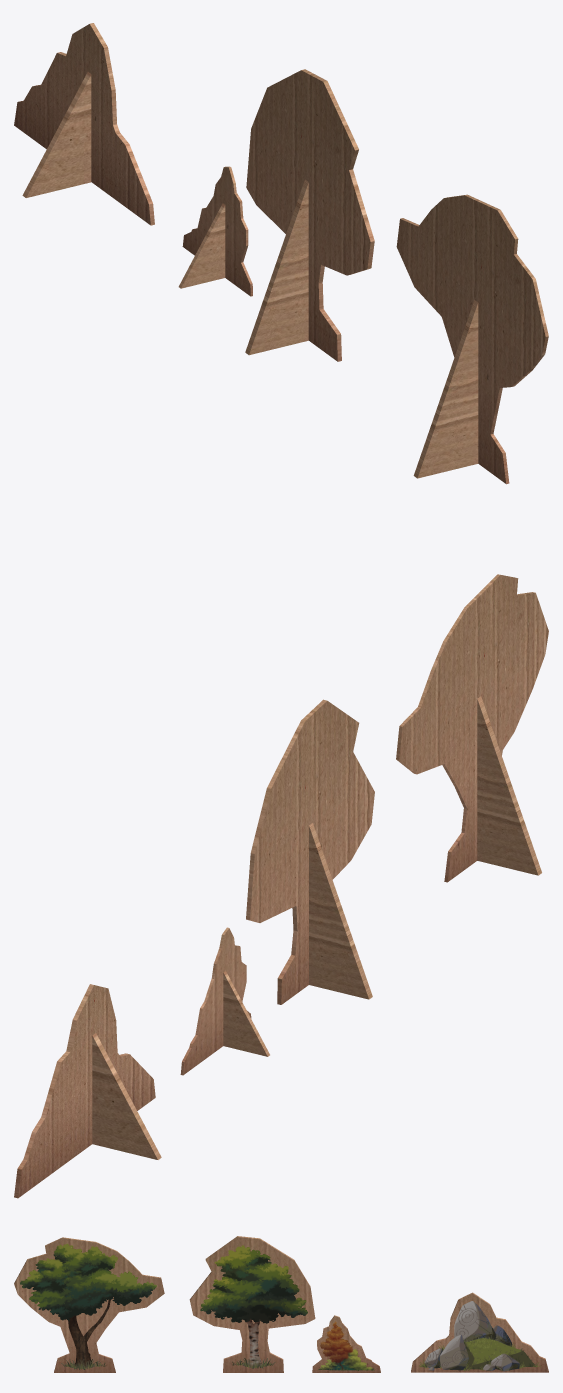
File: netuur dingetjes 2.fbx
The picture shows the model from 3 angles, top to bottom: view 1: azimuth 30°, elevation 25°; view 2: azimuth 150°, elevation 25°; view 3: azimuth 270°, elevation 25°; orthographic projection. The views are drawn at different scales.
Parts seen in each view (by area): view 1: Plane.003, Plane.002, Plane, Plane.001; view 2: Plane.003, Plane.002, Plane, Plane.001; view 3: bomen.003, bomen, Plane.002, Plane.003, IMG_1761, Plane, IMG_1762, Plane.001.
Part boxes in pixels (bbox=[...]): Plane.003: bbox=[396, 194, 548, 484]; Plane.002: bbox=[245, 69, 374, 361]; Plane: bbox=[14, 23, 154, 225]; Plane.001: bbox=[178, 166, 252, 296]; Plane.003: bbox=[396, 574, 548, 882]; Plane.002: bbox=[246, 699, 374, 1004]; Plane: bbox=[14, 984, 161, 1198]; Plane.001: bbox=[180, 927, 269, 1075]; bomen.003: bbox=[20, 1243, 156, 1369]; bomen: bbox=[200, 1245, 307, 1368]; Plane.002: bbox=[189, 1236, 315, 1372]; Plane.003: bbox=[14, 1237, 164, 1372]; IMG_1761: bbox=[419, 1301, 540, 1371]; Plane: bbox=[411, 1292, 548, 1372]; IMG_1762: bbox=[318, 1321, 374, 1370]; Plane.001: bbox=[312, 1315, 380, 1372].
Bounding box in the file's own units: 43.78 × 167 × 569.
8 materials, 8 textured.
